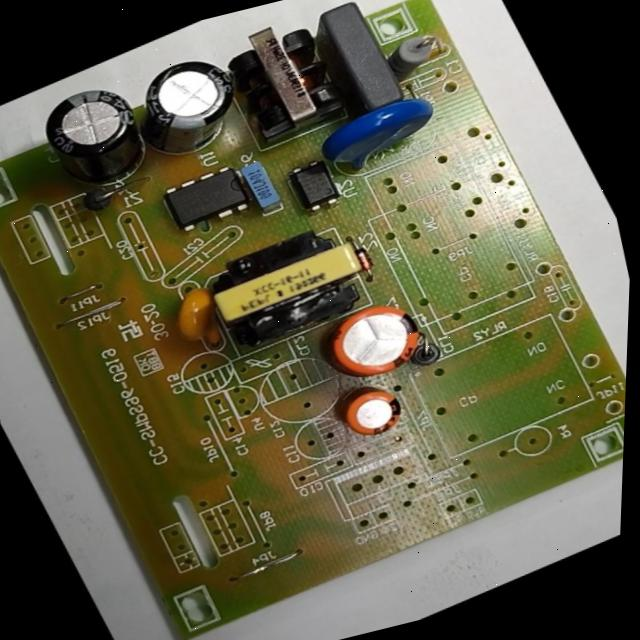Cap1: (307, 287, 440, 396)
Cap2: (328, 376, 415, 448)
Cap3: (113, 39, 265, 172)
Cap4: (22, 66, 169, 204)
MOSFET: (149, 156, 262, 244)
Mov: (305, 84, 457, 186)
Resistor: (378, 21, 450, 82)
Transformer: (183, 206, 388, 362), (204, 0, 364, 153)
